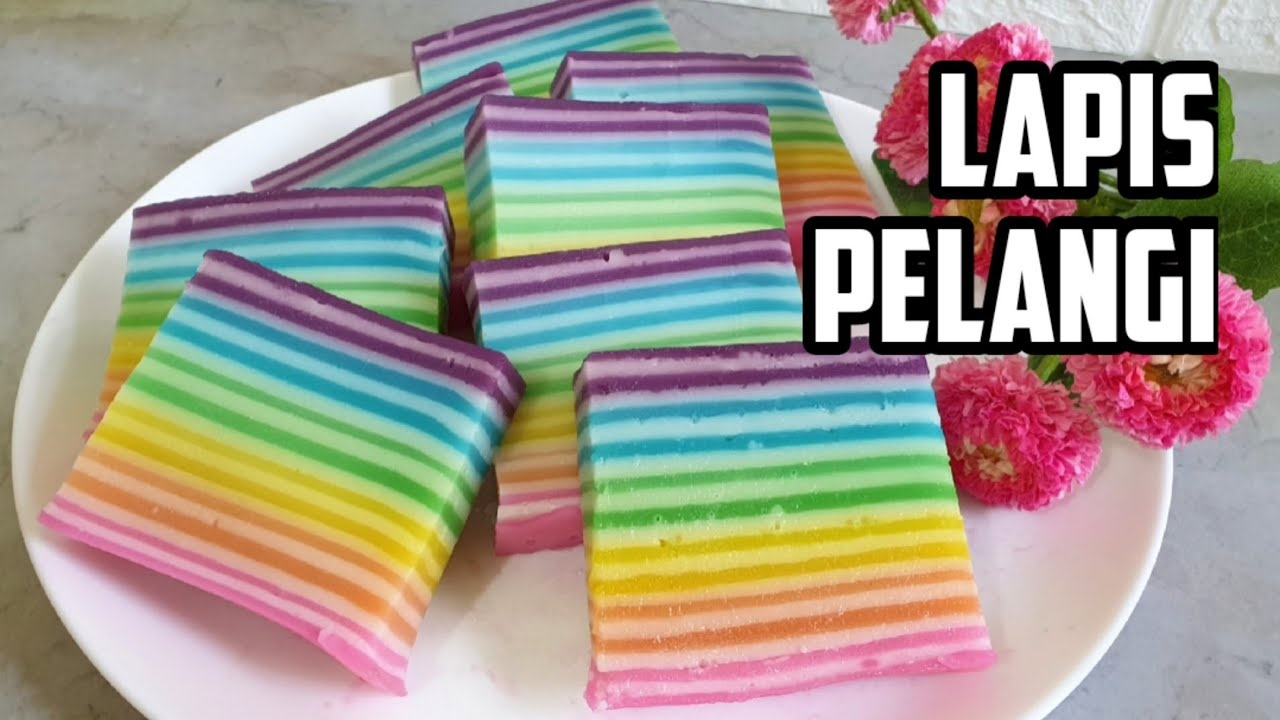kue_lapis_pelangi: (34, 249, 525, 692), (572, 357, 996, 710), (468, 93, 806, 344)
